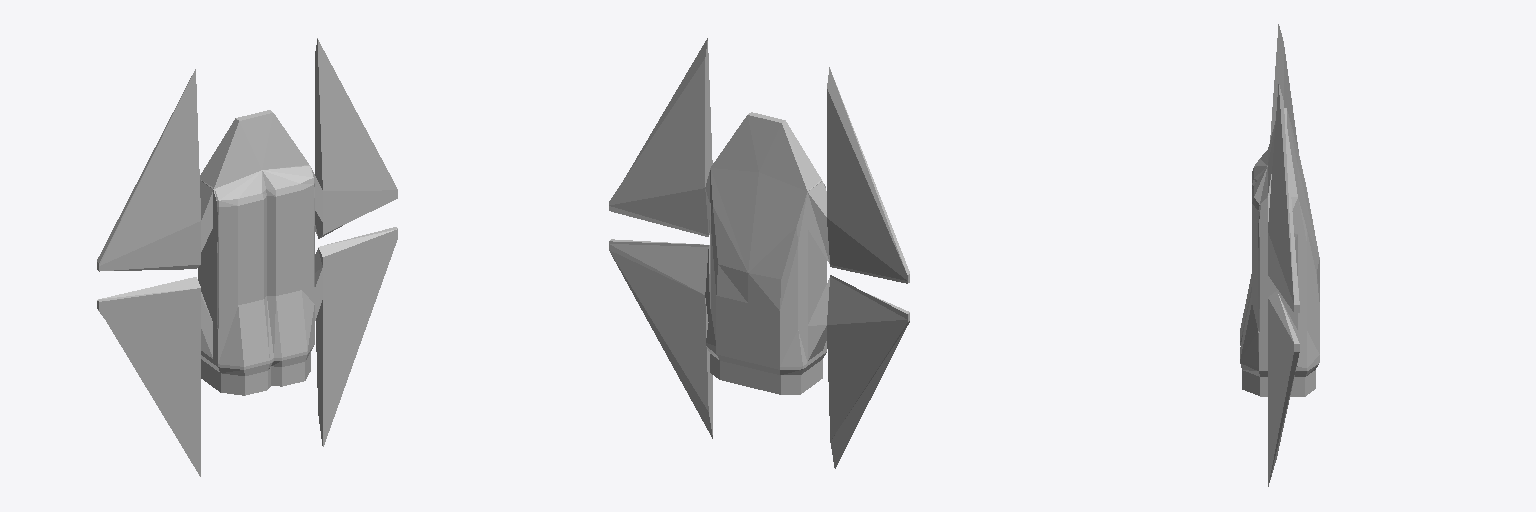
Rendered from Combined_Ship.obj.
3 views of the same model, side by side, from view 1: azimuth 30°, elevation 25°; view 2: azimuth 150°, elevation 25°; view 3: azimuth 270°, elevation 25° (orthographic).
Parts seen in each view (by area): view 1: Combined_Ship; view 2: Combined_Ship; view 3: Combined_Ship.
Boxes of the visible parts, <box> form: Combined_Ship: <box>97,38,397,476</box>; Combined_Ship: <box>609,38,909,468</box>; Combined_Ship: <box>1240,24,1319,486</box>.
Size of the model in its own units: 3 by 3.9 by 0.69.